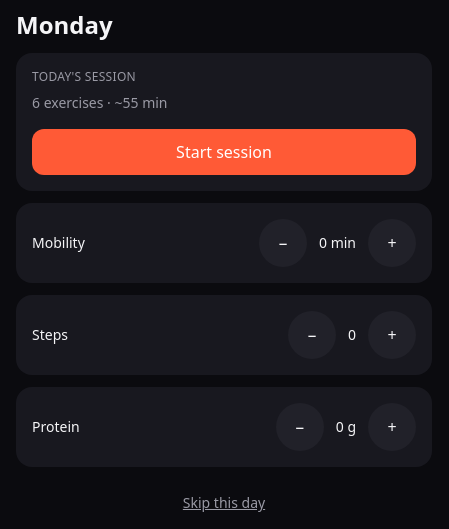
Scenario: Today screen › shows a Steps stepper on any day and persists on tap
Expected: the text "Steps" is shown, top-left (32, 325), bottom-right (68, 345)
Expected: the text "0" is shown, top-left (348, 325), bottom-right (356, 345)
Click the button named "Increase steps": x=392, y=335 top-left (368, 311), bottom-right (416, 359)
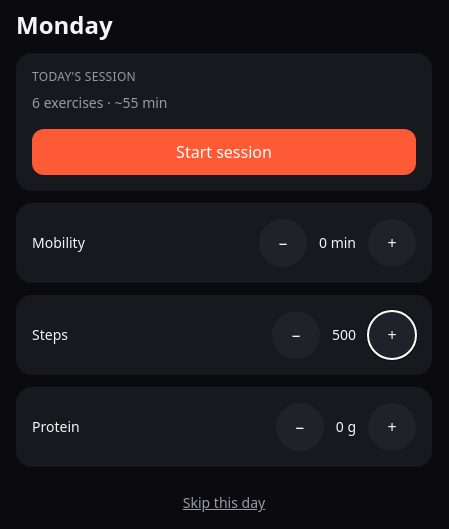
Result: the text "500" is shown at top-left (332, 325), bottom-right (356, 345)
